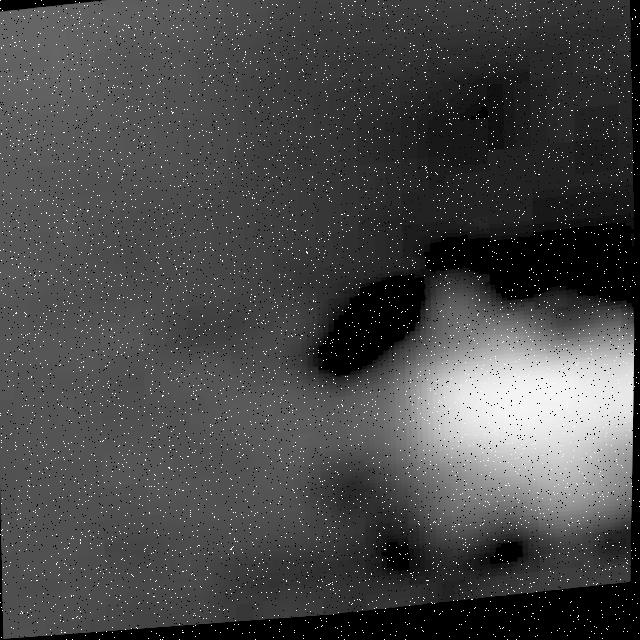person: (320, 305, 637, 543)
